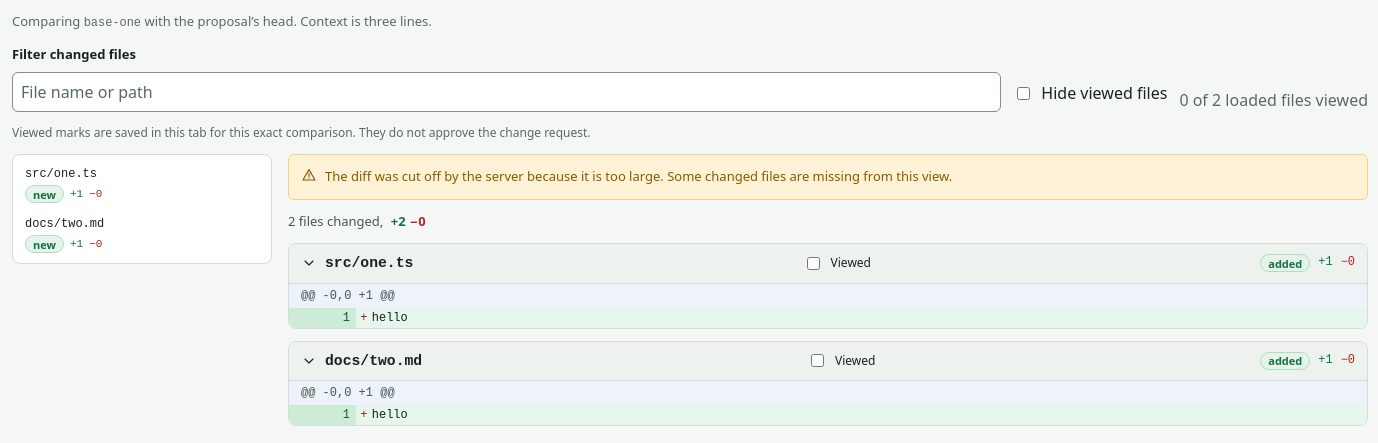
Scenario: filters both navigation and patches without losing the server truncation warning
The width and height of the screenshot is (1378, 443).
Type "DOCS/" into the search field labelled "Filter changed files" at (507, 92), box x1=21 y1=76 x2=992 y2=108
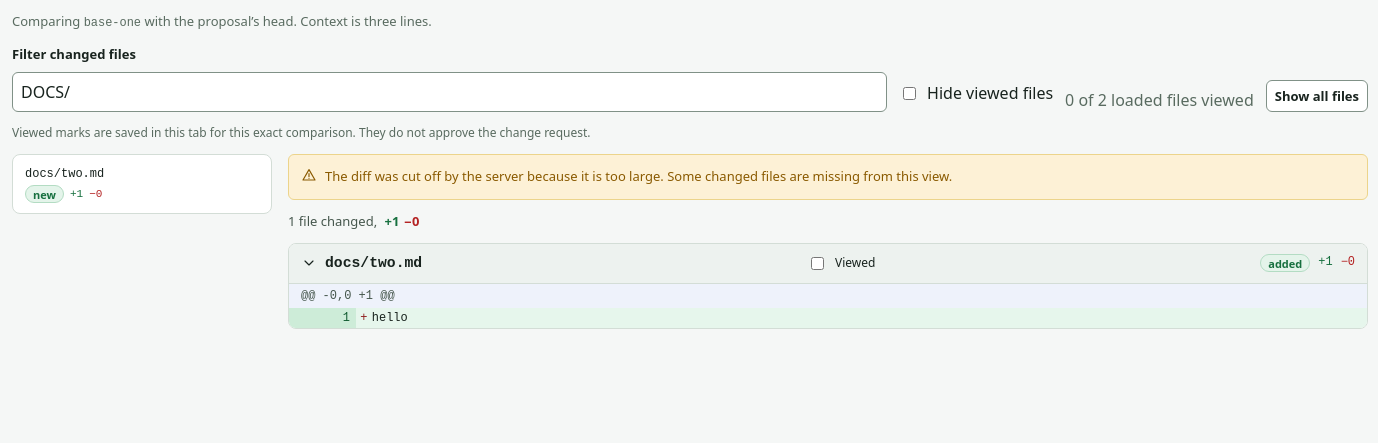
Expected: the element with class "file" shows "docs/two.md", x1=301 y1=244 x2=422 y2=282
Expected: the number of elements with class "file" is 1, x1=288 y1=243 x2=1368 y2=328
Expected: the link "src/one.ts" no longer shows "src/one.ts"
Replace the text in the search field labelled "Filter changed files" with "nothing" at (450, 92), box x1=21 y1=76 x2=878 y2=108
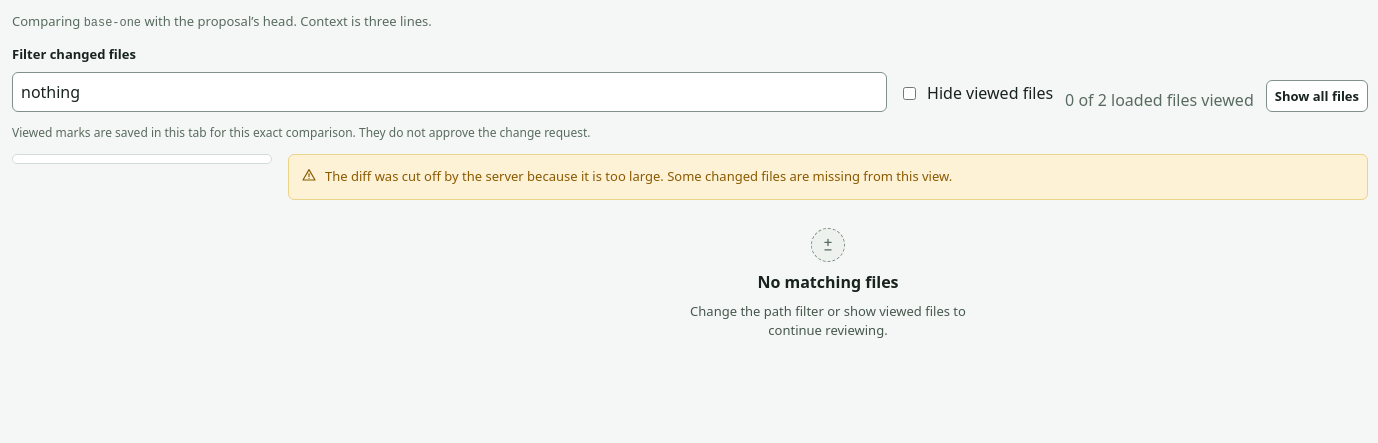
Expected: the text "cut off by the server" is shown, x1=325 y1=167 x2=952 y2=185
Expected: the text "No matching files" is shown, x1=757 y1=270 x2=899 y2=294
